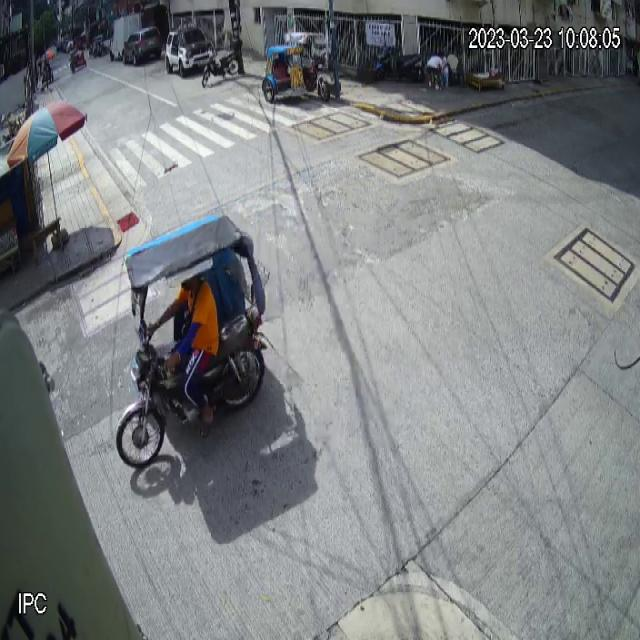Tricycle: (115, 211, 266, 472), (262, 31, 331, 104)
